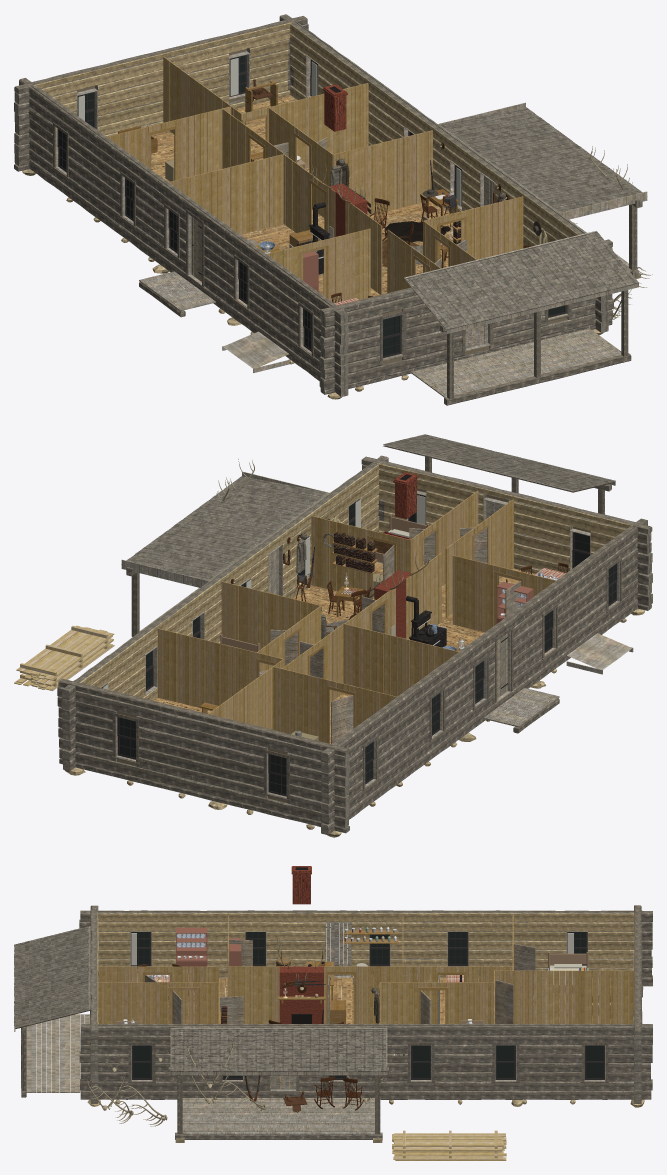
File: elkhorn_house_open.glb
3 views of the same model, one above another, from view 1: azimuth 30°, elevation 25°; view 2: azimuth 150°, elevation 25°; view 3: azimuth 270°, elevation 25° (orthographic). The views are drawn at different scales.
Parts seen in each view (by area): view 1: house_log, interior_pine, house_shingle, house_ilog, house_deck, house_board, interior_floor, house_trim, house_glass, house_door, house_sash, house_post (+10 smaller); view 2: house_log, interior_pine, house_ilog, house_shingle, house_board, interior_door, props_lumber, house_glass, house_trim, house_door, interior_floor, house_sash (+12 smaller); view 3: house_log, interior_pine, house_ilog, house_shingle, house_deck, house_glass, interior_door, props_lumber, house_board, house_sash, interior_brick, interior_paint (+9 smaller).
Part boxes in pixels (x1,y1,x2,y2): house_log: (14, 14, 641, 405); interior_pine: (107, 56, 523, 302); house_shingle: (405, 107, 642, 329); house_ilog: (33, 22, 578, 245); house_deck: (139, 220, 636, 397); house_board: (55, 51, 647, 372); interior_floor: (151, 95, 453, 296); house_trim: (52, 122, 572, 362); house_glass: (59, 55, 564, 356); house_door: (191, 176, 494, 368); house_sash: (57, 55, 566, 358); house_post: (447, 204, 637, 399); house_log: (57, 455, 652, 834); interior_pine: (157, 490, 555, 743); house_ilog: (80, 463, 632, 700); house_shingle: (121, 434, 615, 580); house_board: (100, 444, 633, 798); interior_door: (259, 527, 521, 744); props_lumber: (14, 625, 114, 690); house_glass: (119, 494, 615, 794); house_trim: (111, 556, 622, 801); house_door: (268, 500, 631, 698); interior_floor: (153, 562, 535, 743); house_sash: (102, 502, 617, 796); house_log: (21, 905, 652, 1139); interior_pine: (98, 915, 633, 1023); house_ilog: (97, 912, 634, 1024); house_shingle: (14, 926, 386, 1071); house_deck: (26, 964, 379, 1134); house_glass: (132, 932, 603, 1078); interior_door: (145, 939, 535, 1023); props_lumber: (392, 1130, 506, 1160); house_board: (14, 922, 634, 1091); house_sash: (131, 932, 604, 1079); interior_brick: (279, 966, 323, 1023); interior_paint: (115, 927, 588, 1023).
Size of the model in its own units: 14.84 by 6.48 by 21.2.
46 materials, 46 textured.
